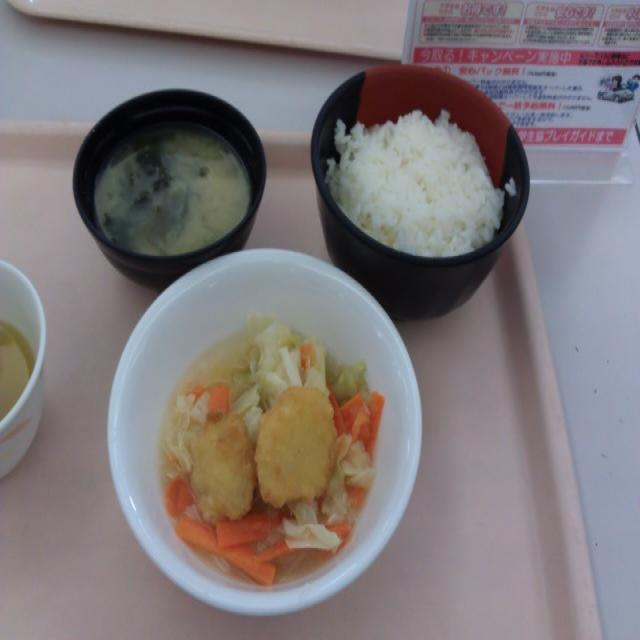Rice: (330, 88, 507, 254)
